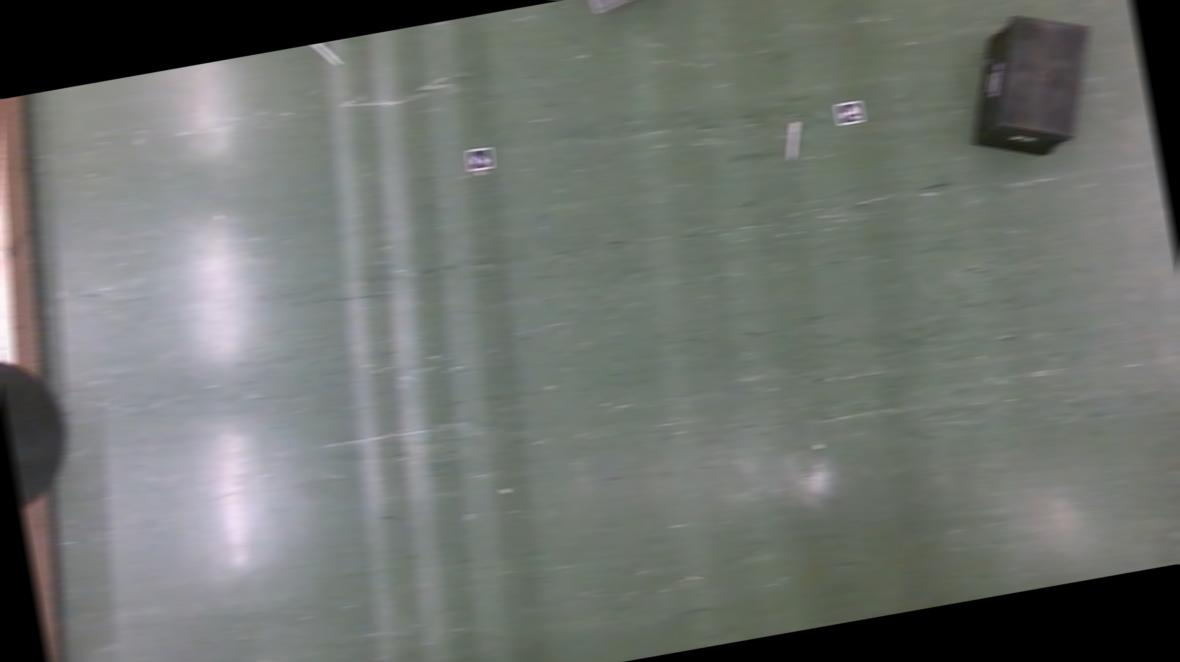probes: (780, 121, 803, 162), (311, 40, 342, 69)
rako: (952, 4, 1111, 170)
